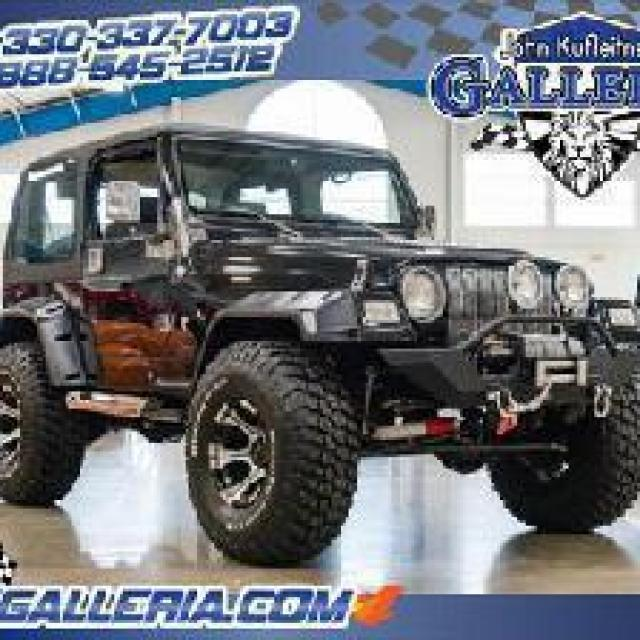damaged: (134, 263, 237, 408)
